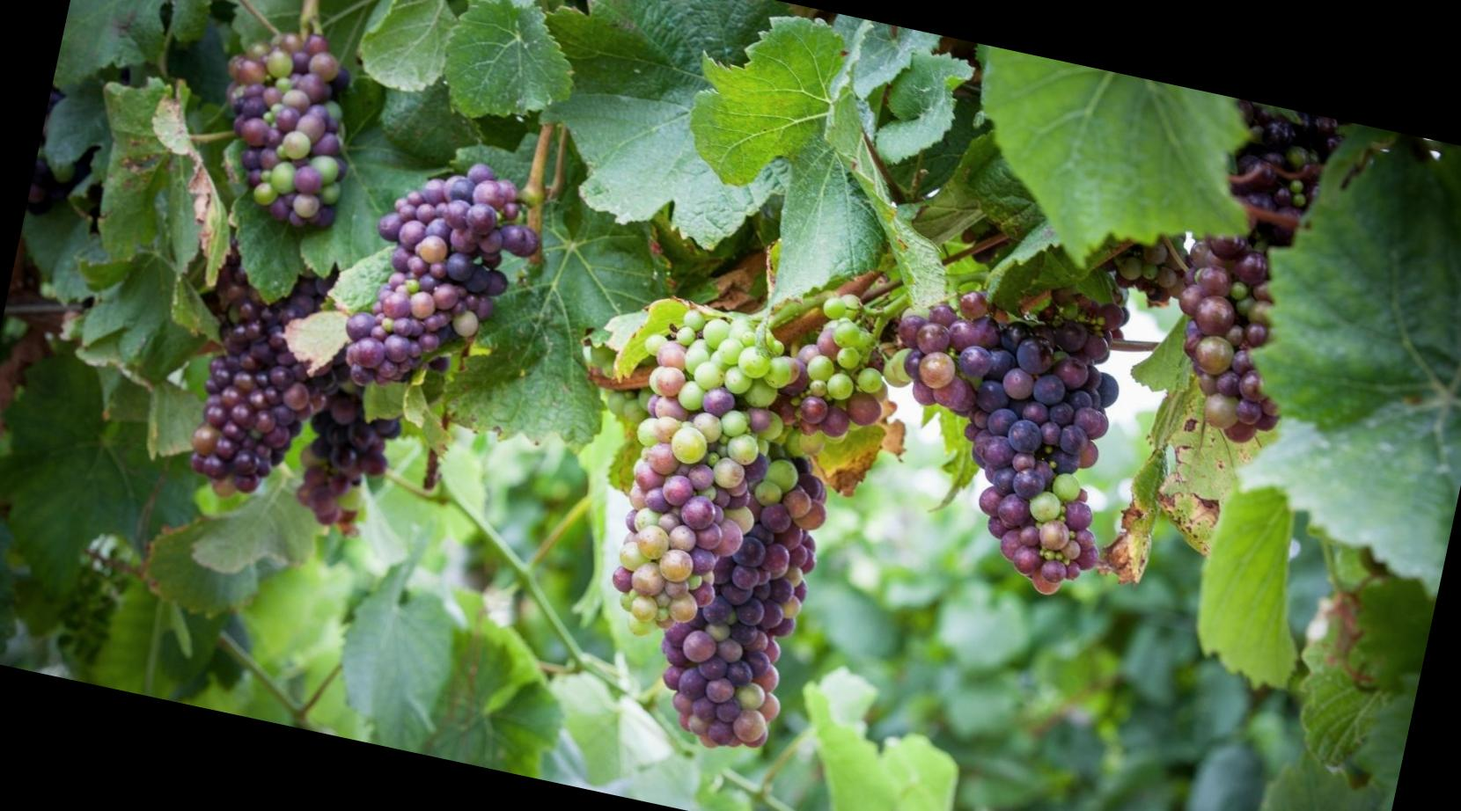Grape Ripe: (863, 234, 1162, 614), (1140, 95, 1362, 459), (329, 134, 559, 420), (149, 230, 349, 522), (277, 346, 422, 552)
